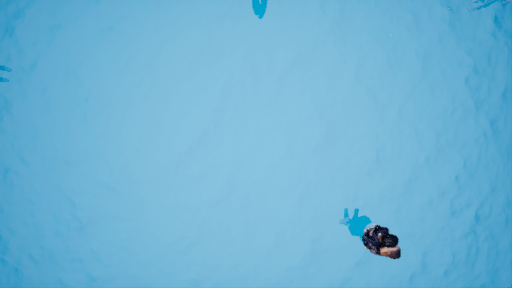person: (326, 204, 411, 260)
